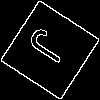J: (25, 25, 78, 71)
